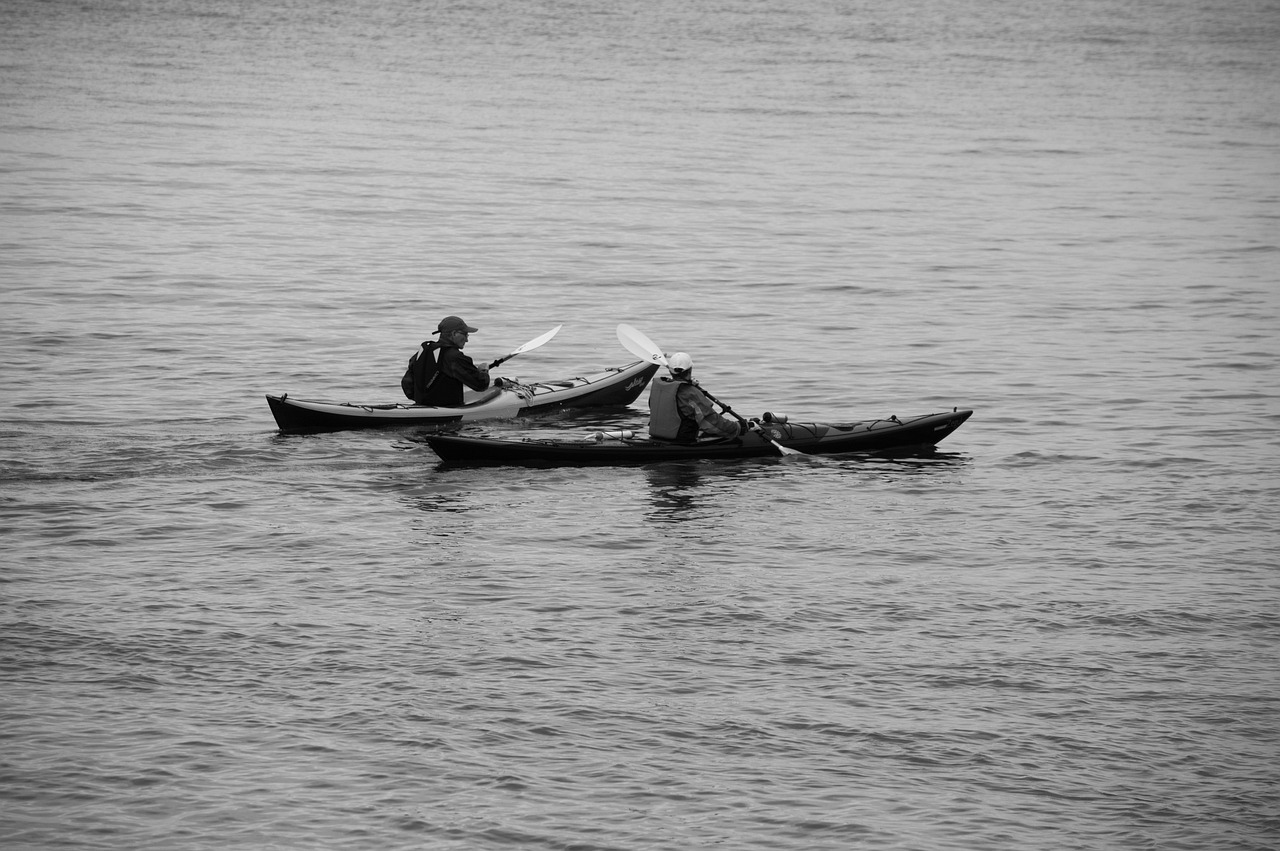kayak: (259, 312, 663, 435), (423, 405, 979, 473)
